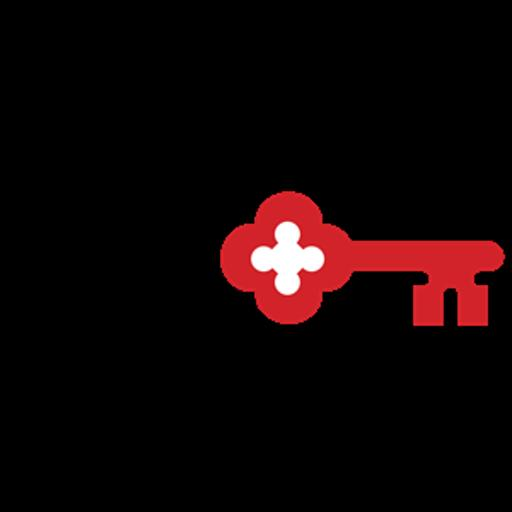Key Bank: (0, 99, 512, 413)
